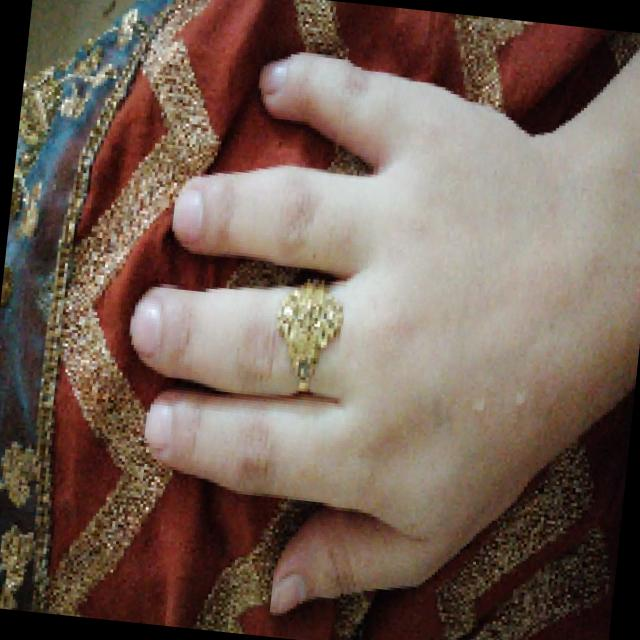Nail: (129, 288, 161, 357), (172, 185, 202, 243), (144, 397, 172, 450), (271, 572, 306, 612), (259, 56, 289, 93)
